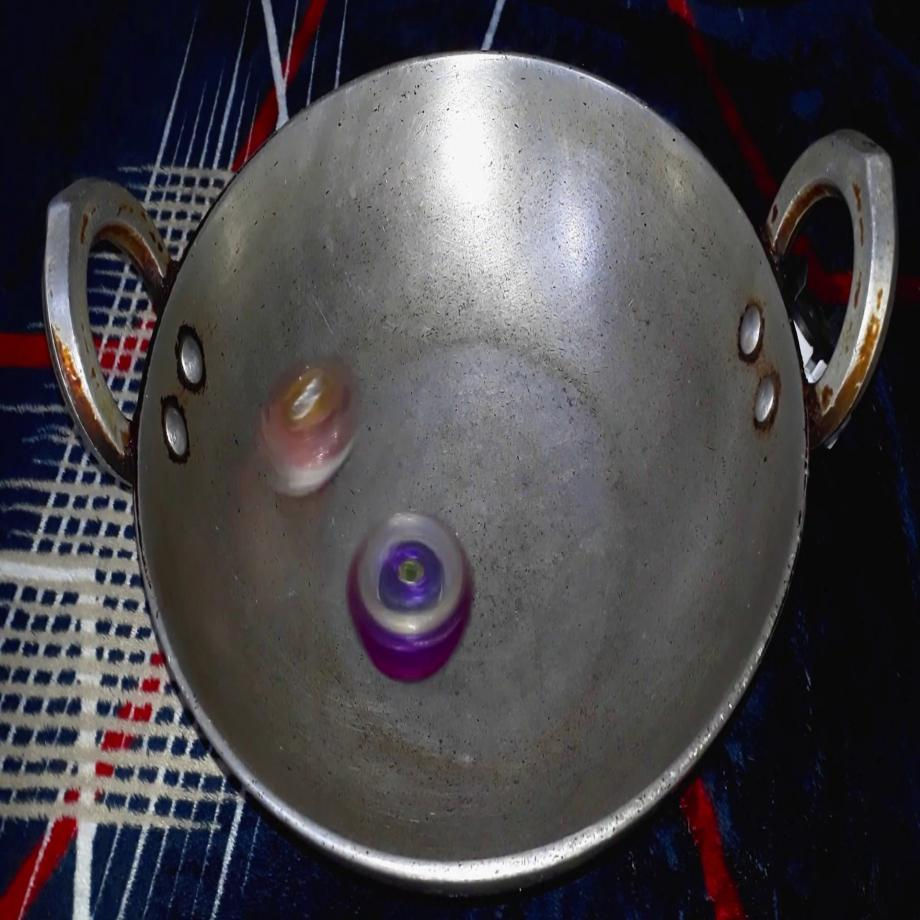beyblade: (340, 501, 483, 696), (247, 336, 366, 512)
